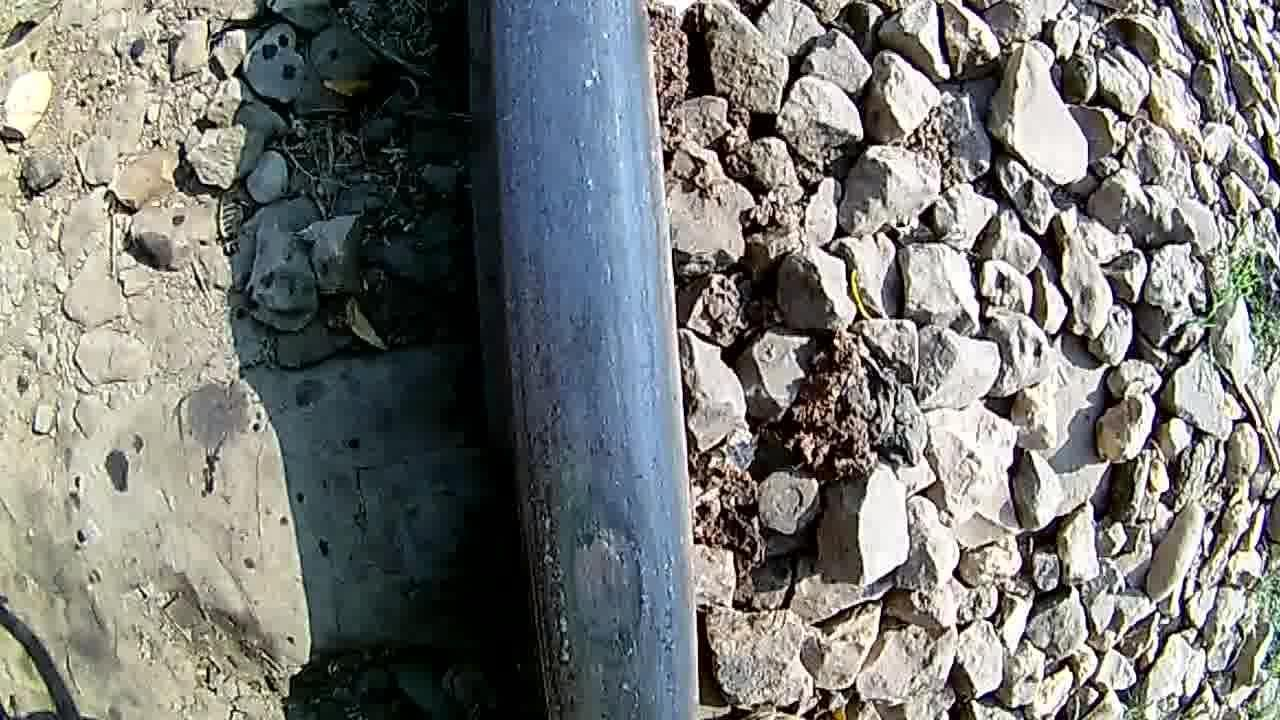crack: (516, 427, 694, 720)
